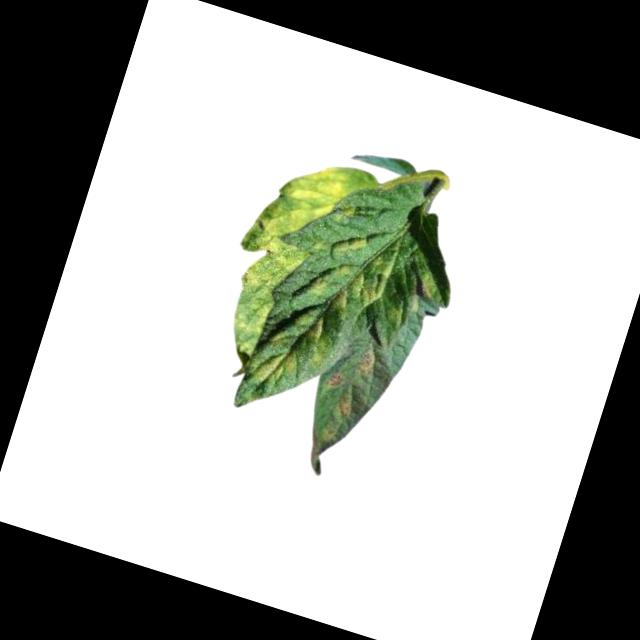Leaf_Mold: (251, 219, 399, 417), (299, 342, 383, 480), (254, 148, 350, 265), (220, 243, 302, 358)
